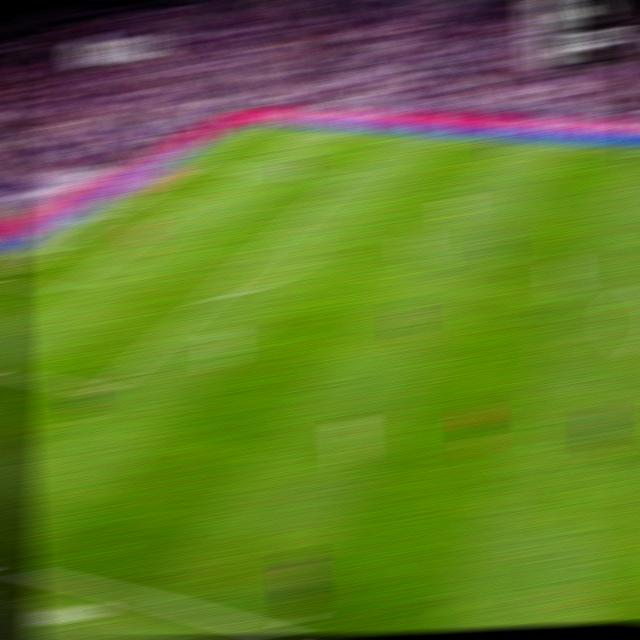bigarea_bottom_inner: (89, 380, 117, 400)
bigarea_top_inner: (332, 171, 356, 183)
bigarea_top_outter: (184, 157, 209, 167)
bottom_arc_area_intersection: (195, 288, 223, 306)
corner: (242, 122, 267, 130)
smallarea_bottom_inner: (48, 282, 75, 297)
smallarea_top_inner: (174, 199, 198, 211)
top_arc_area_intersection: (278, 218, 304, 232)
